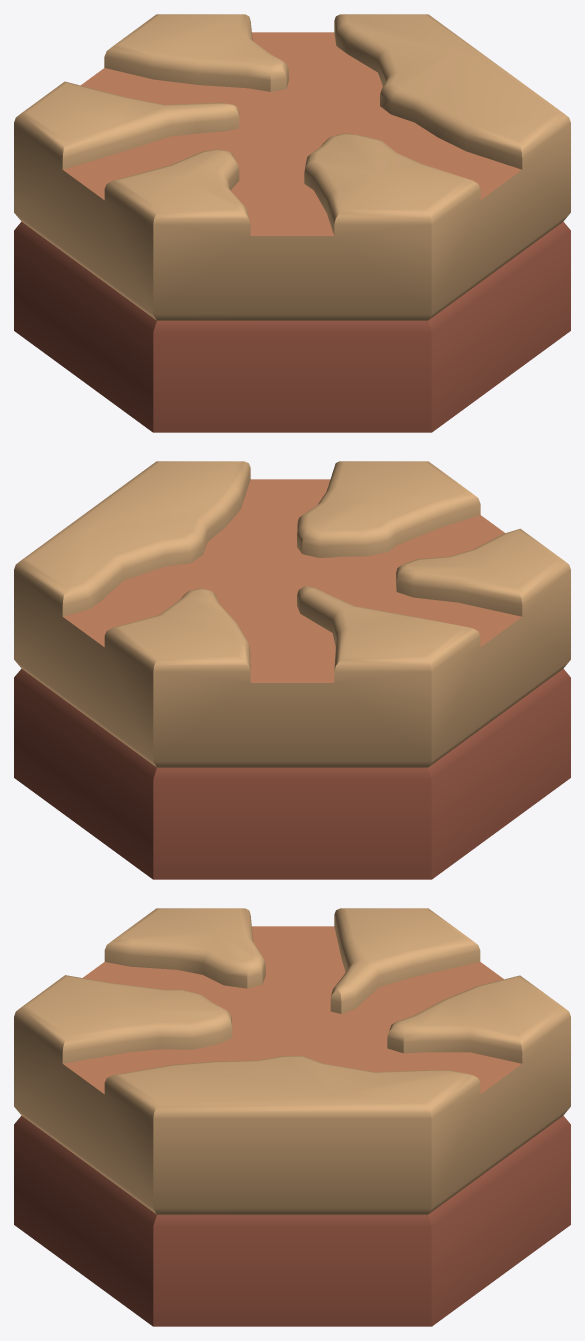
The model's file is kaykit-hex-sand-roadl-detail.glb.
3 views of the same model, one above another, from view 1: azimuth 30°, elevation 25°; view 2: azimuth 150°, elevation 25°; view 3: azimuth 270°, elevation 25° (orthographic).
Parts seen in each view (by area): view 1: hex_sand_roadL_detail; view 2: hex_sand_roadL_detail; view 3: hex_sand_roadL_detail.
Boxes of the visible parts, x1,y1,x2,y2 form: hex_sand_roadL_detail: (14,14,570,432); hex_sand_roadL_detail: (14,461,570,879); hex_sand_roadL_detail: (14,908,570,1326).
Bounding box in the file's own units: 2 × 1 × 2.31.
